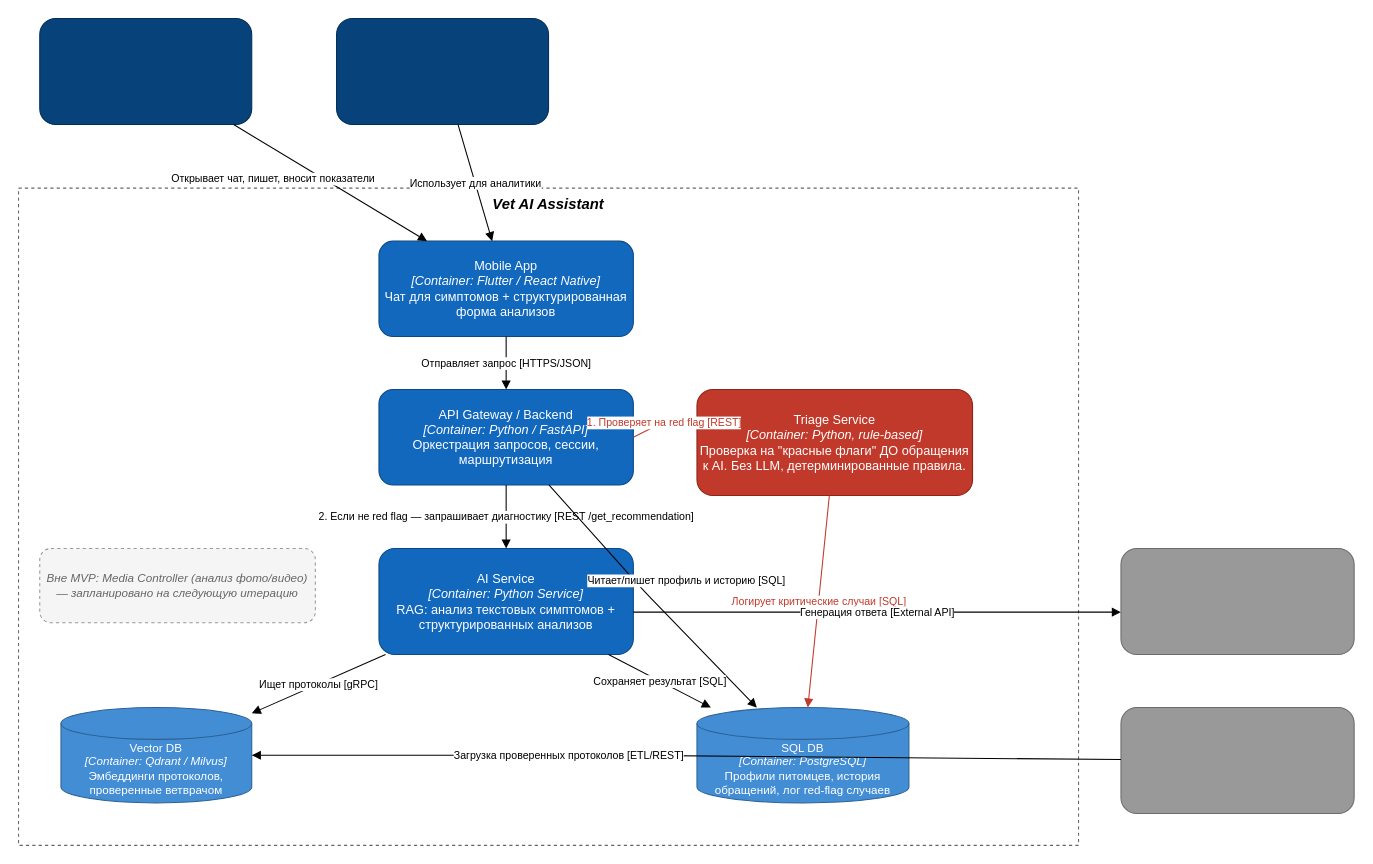
Image size: 1373x864. Some labels were removed from this diagram. Each missing label, with the centre of its shape:
"LLM Provider [Software System] Внешний API генерации текста" goes at (1237,601).
"Ветврач / Приют [Person] Использует систему для предварительной аналитики" goes at (442,71).
"Владелец питомца [Person] Описывает симптомы, вносит показатели анализов" goes at (145,71).
"Открытые ветеринарные источники + ревью ветврача [Software System]" goes at (1237,760).
